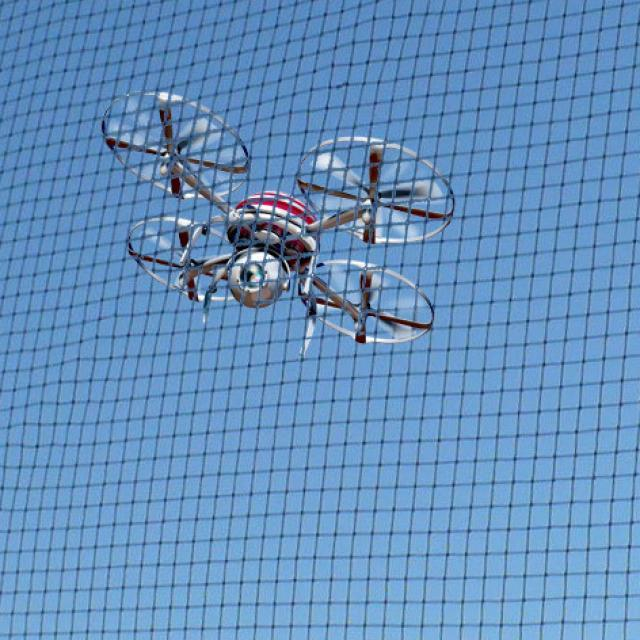drone: (78, 70, 464, 374)
